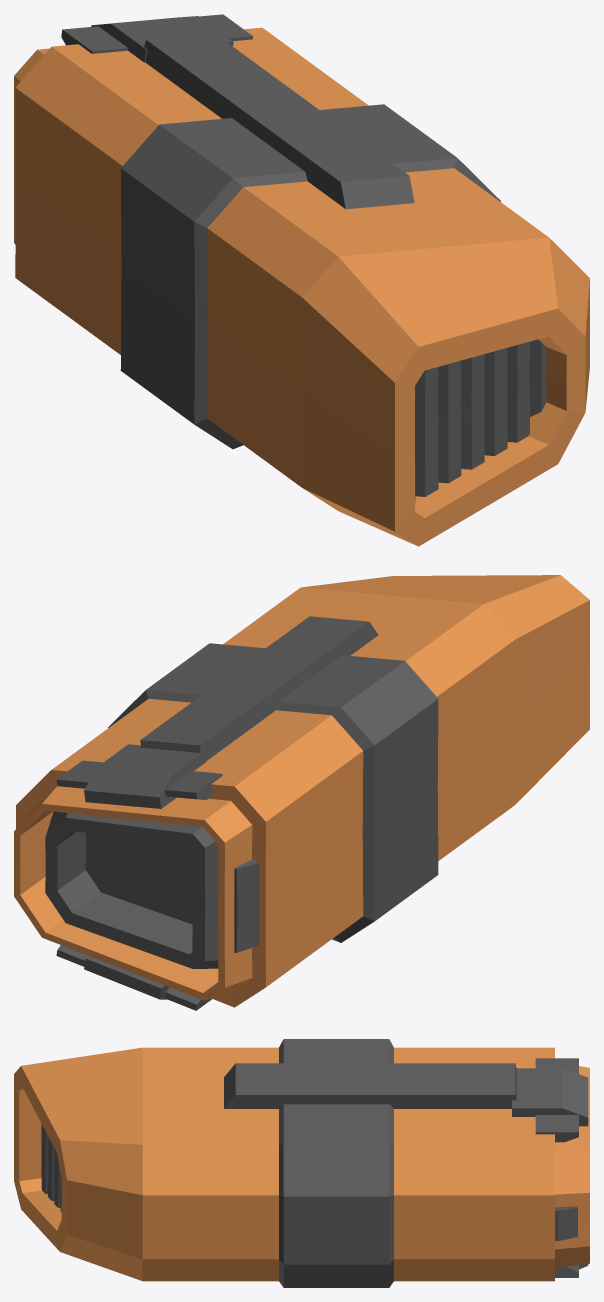
File: SpaceFighter_Engine.fbx
3 renders of one model, top to bottom at view 1: azimuth 30°, elevation 25°; view 2: azimuth 150°, elevation 25°; view 3: azimuth 270°, elevation 25°, orthographic. The views are drawn at different scales.
Visible parts, largest first — view 1: Spacefighter_Engine; view 2: Spacefighter_Engine; view 3: Spacefighter_Engine.
Boxes of the visible parts, left/top/right/bottom form: Spacefighter_Engine: left=14, top=14, right=589, bottom=546; Spacefighter_Engine: left=14, top=575, right=589, bottom=1010; Spacefighter_Engine: left=14, top=1039, right=589, bottom=1287.
Bounding box in the file's own units: 262 × 225 × 592.
